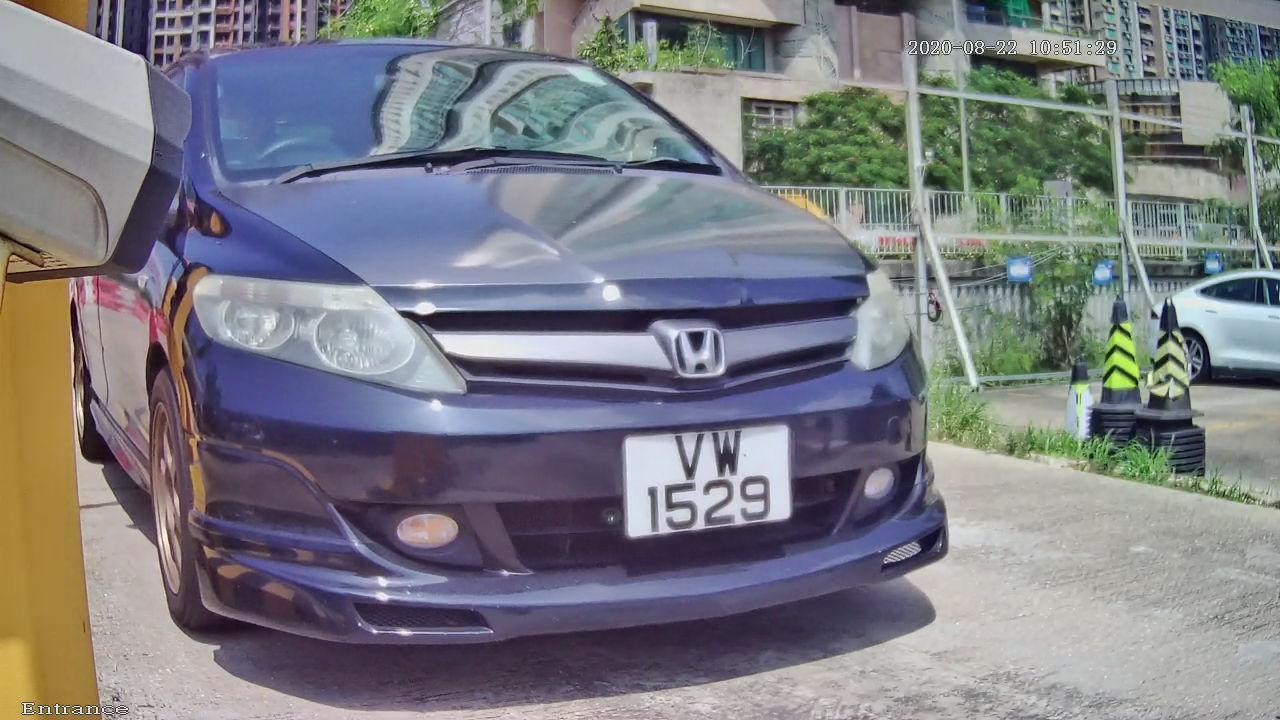License Plate: (601, 415, 795, 550)
